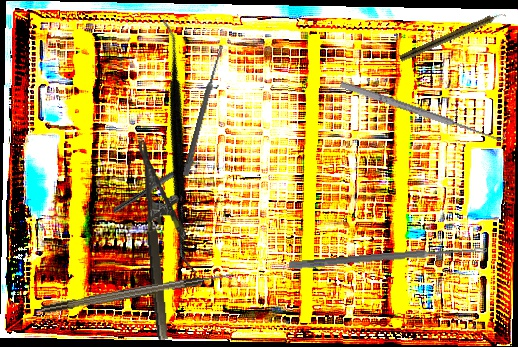Chopper: (111, 148, 214, 220)
Handpiece: (399, 9, 507, 64)
Hook Surgical: (338, 73, 508, 146), (40, 270, 236, 314)
Needle Holder: (138, 136, 195, 341)
Spatula Surgical: (62, 18, 297, 275)
Surgical Spoon: (182, 44, 225, 177), (288, 244, 488, 271)
